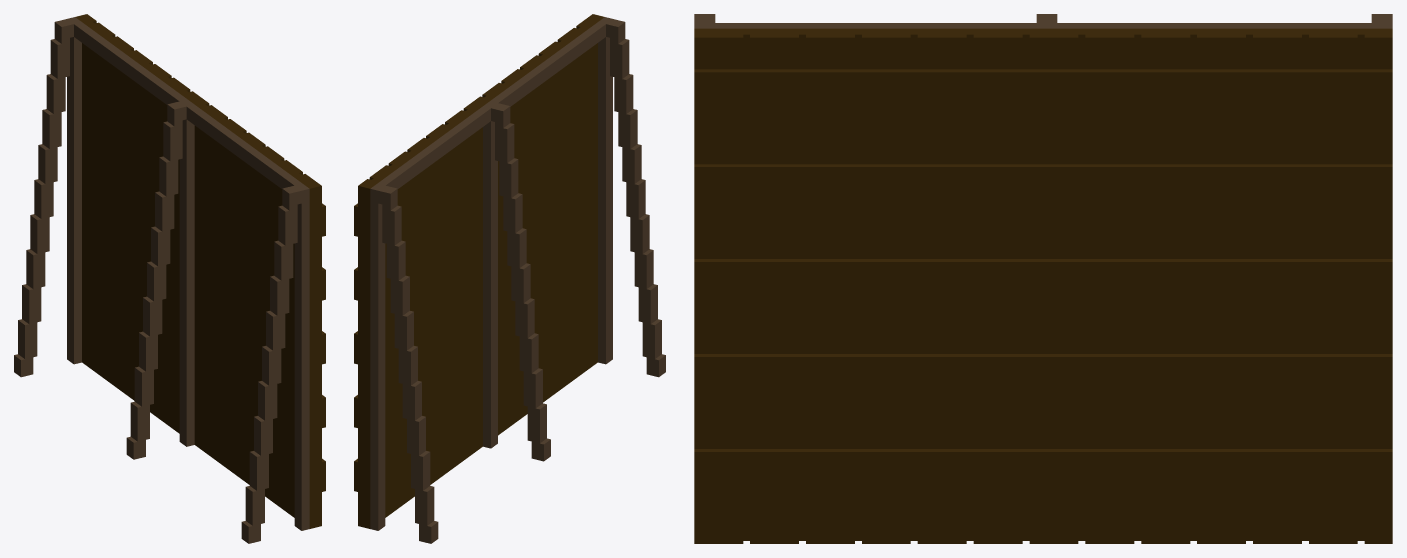
Rendered from Wall barrier.obj.
3 renders of one model, left to right at view 1: azimuth 30°, elevation 25°; view 2: azimuth 150°, elevation 25°; view 3: azimuth 270°, elevation 25°, orthographic. The views are drawn at different scales.
Size of the model in its own units: 1.9 by 8 by 10.
Materials: 1 (1 with a texture image).
